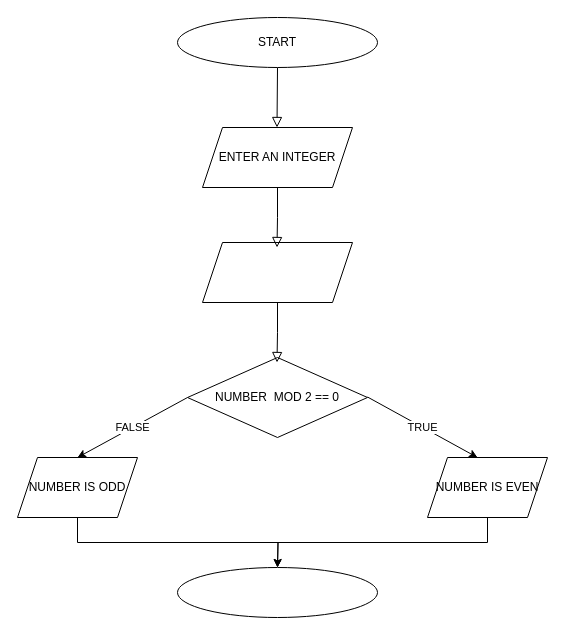
The diagram is 565 pixels wide and 635 high, and some of its shapes have lost their labels. Each missing label, with the centre of its shape:
END: point 277,592
READ NUMBER: point 277,272
